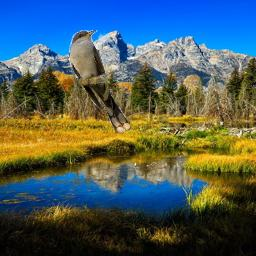Cuckoo: (69, 30, 131, 133)
